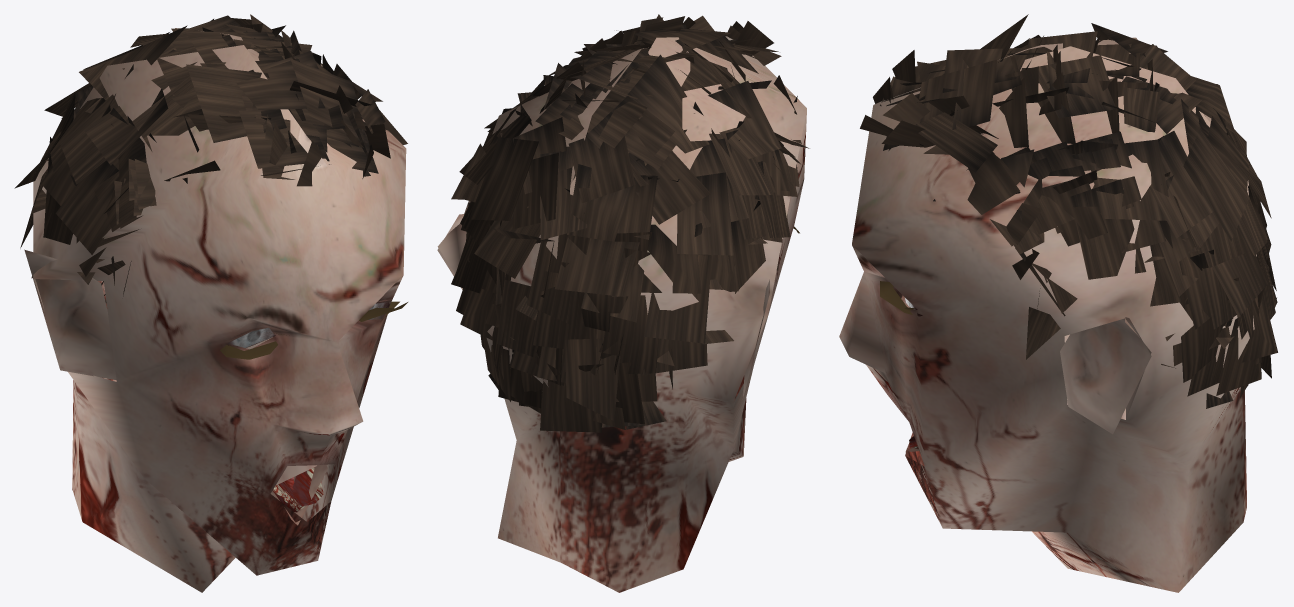
Rendered from gib_head.gltf.
The picture shows the model from 3 angles, left to right: view 1: azimuth 30°, elevation 25°; view 2: azimuth 150°, elevation 25°; view 3: azimuth 270°, elevation 25°; orthographic projection. The views are drawn at different scales.
Parts seen in each view (by area): view 1: Object_6.007; view 2: Object_6.007; view 3: Object_6.007.
Boxes of the visible parts, x1=… form: Object_6.007: x1=14, y1=14, x2=407, y2=592; Object_6.007: x1=437, y1=14, x2=809, y2=592; Object_6.007: x1=839, y1=14, x2=1277, y2=592.
Bounding box in the file's own units: 0.2156 × 0.3286 × 0.2409.
Materials: 2 (2 with a texture image).
